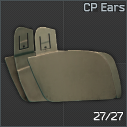Crye Precision AirFrame Ears: (0, 0, 127, 127)
